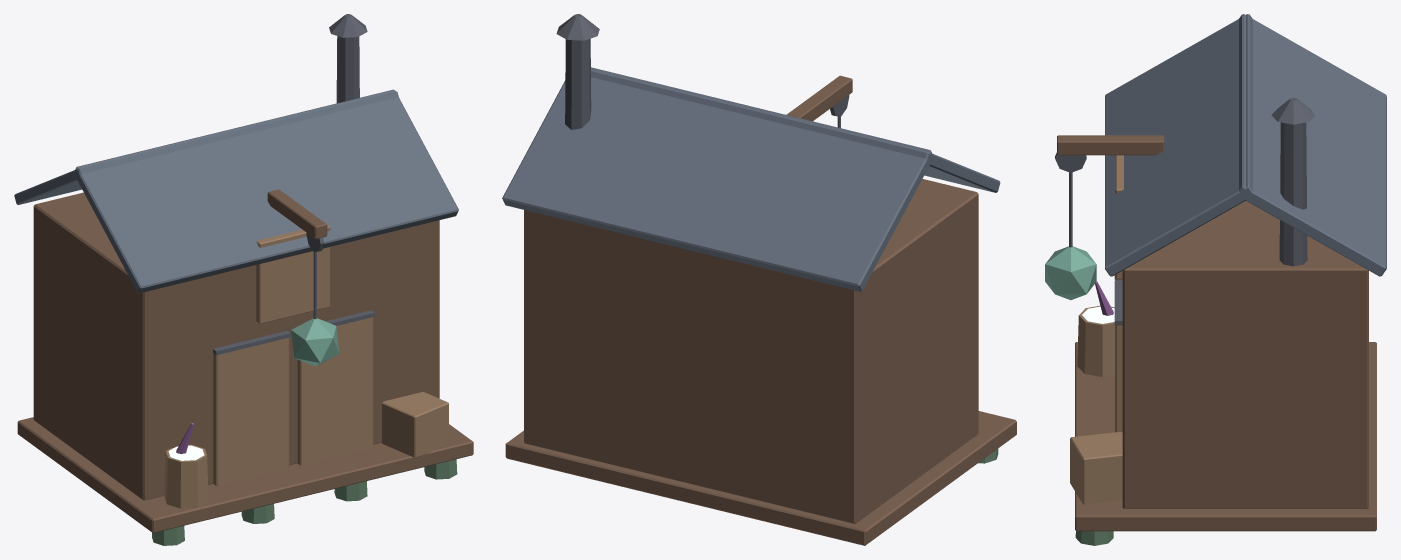
The model's file is outdoor_warehouse.glb.
The picture shows the model from 3 angles, left to right: view 1: azimuth 30°, elevation 25°; view 2: azimuth 150°, elevation 25°; view 3: azimuth 270°, elevation 25°; orthographic projection. The views are drawn at different scales.
Parts seen in each view (by area): view 1: Outdoor_Warehouse; view 2: Outdoor_Warehouse; view 3: Outdoor_Warehouse.
Part boxes in pixels (x1=…): Outdoor_Warehouse: x1=14, y1=14, x2=473, y2=545; Outdoor_Warehouse: x1=502, y1=14, x2=1016, y2=545; Outdoor_Warehouse: x1=1045, y1=14, x2=1386, y2=545.
Size of the model in its own units: 5.2 by 6.06 by 4.3.
